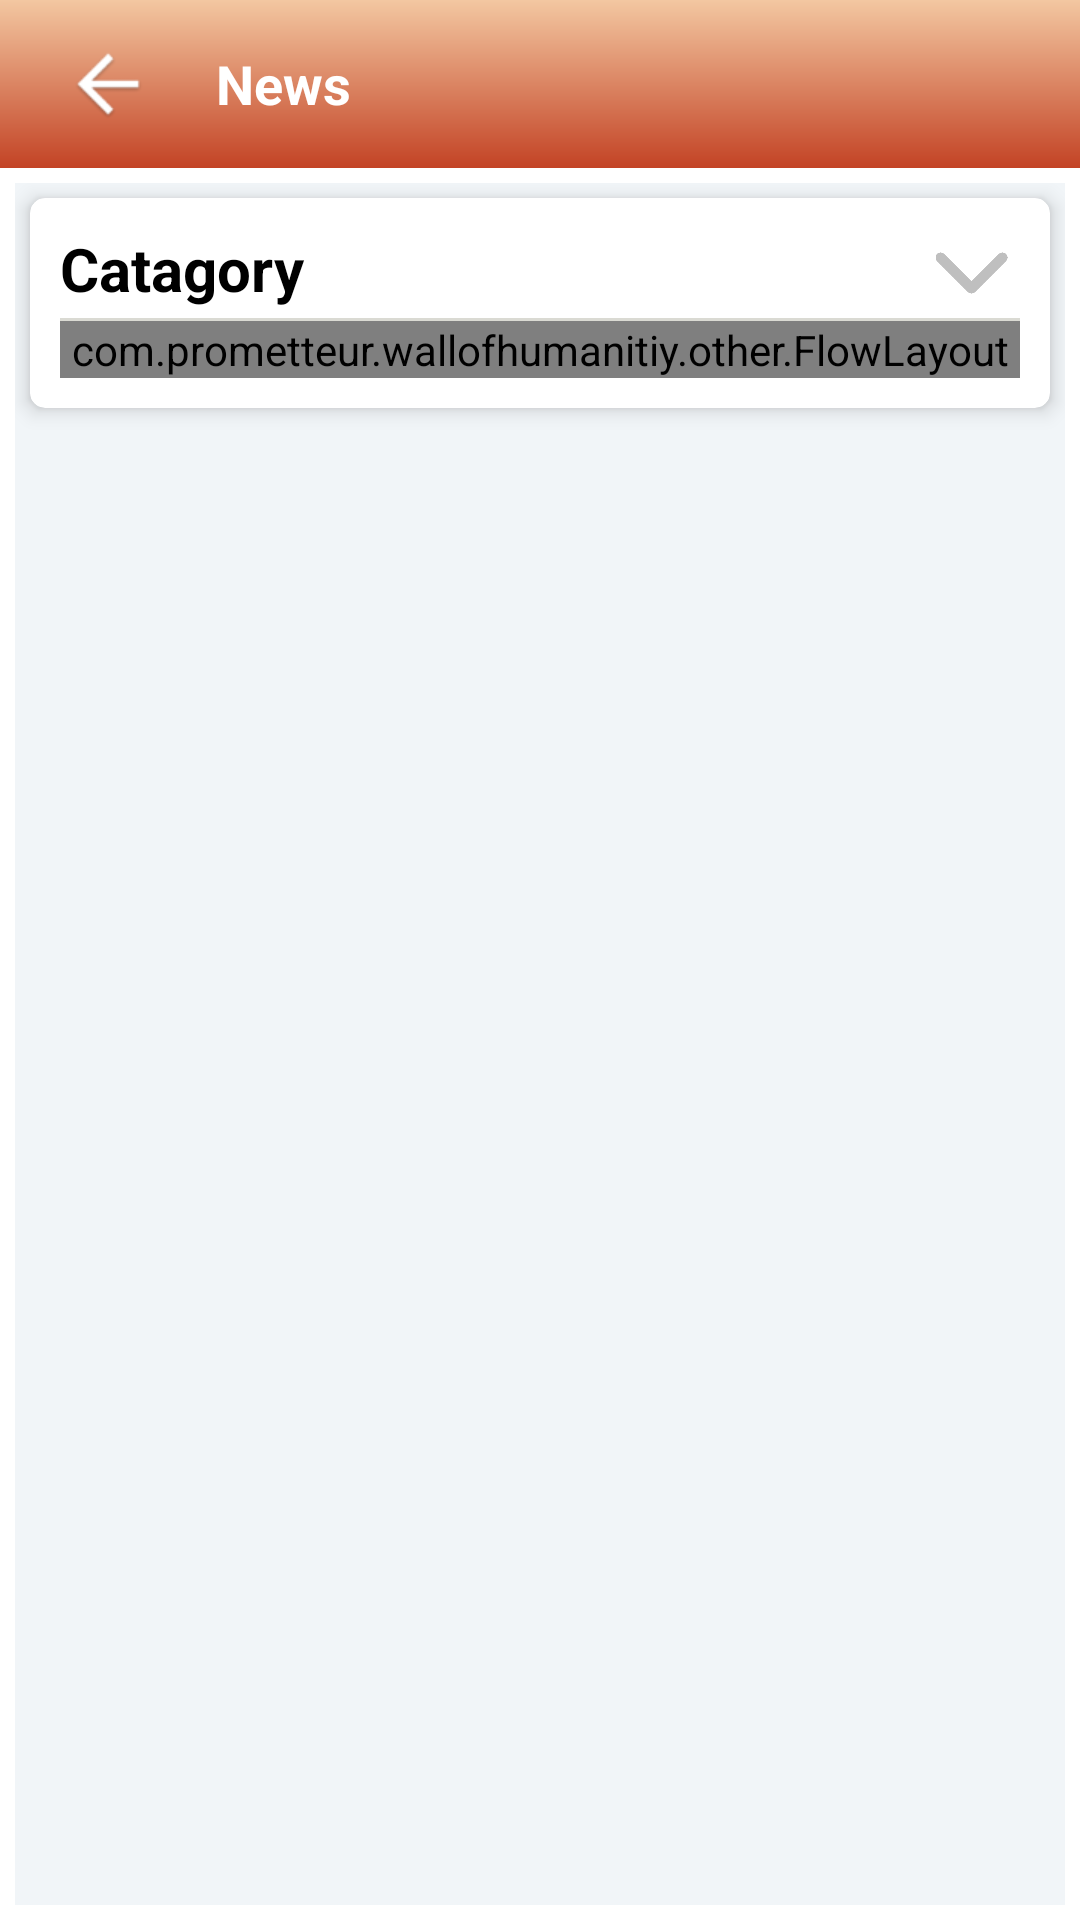

Where to tap for icons on this 1080x1920 app screen, as point (x, y):
arrow down: point (972, 273)
custom back: point (108, 84)
